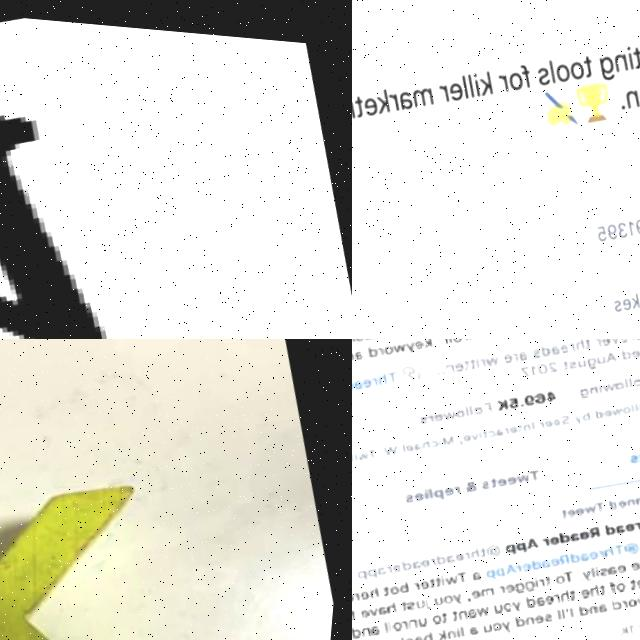0: (542, 351, 553, 365)
1: (597, 217, 612, 236), (535, 354, 544, 367), (637, 611, 640, 622)
2: (551, 350, 562, 364)
3: (502, 636, 512, 640)
4: (549, 380, 563, 394)
5: (609, 216, 623, 235), (512, 387, 525, 401), (636, 209, 640, 229)
6: (539, 382, 552, 396)
7: (523, 355, 536, 369)
9: (528, 383, 541, 396)
H: (0, 11, 327, 339)
X: (0, 432, 202, 640)
